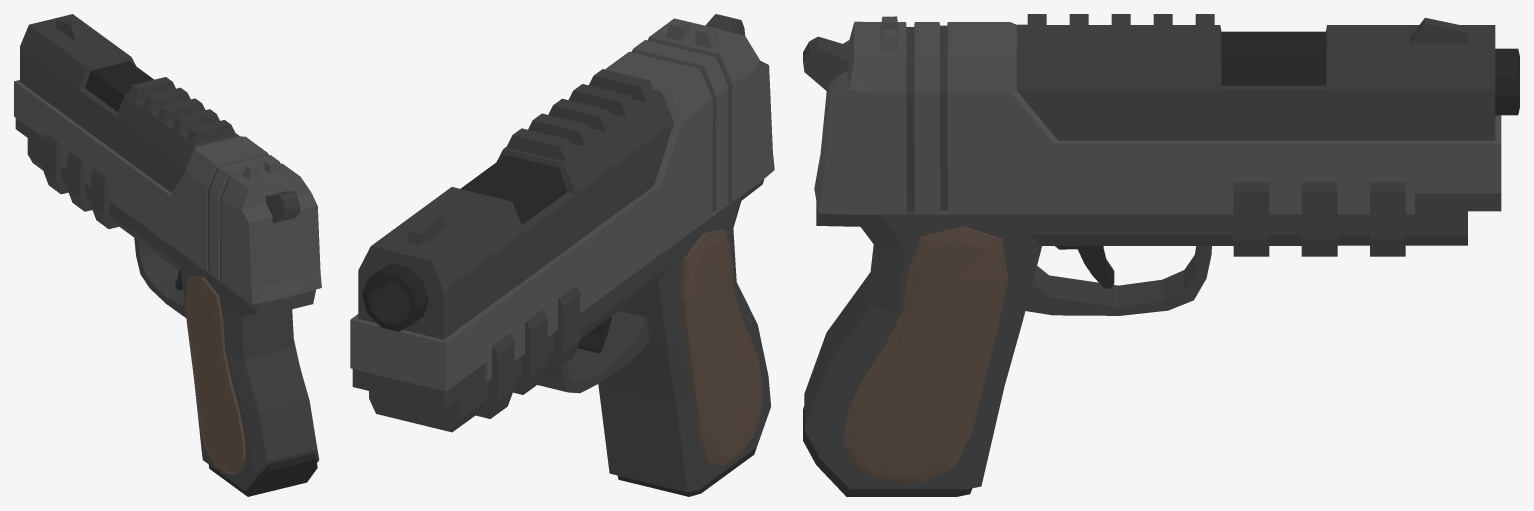
The model's file is pistol-3.glb.
3 renders of one model, left to right at view 1: azimuth 30°, elevation 25°; view 2: azimuth 150°, elevation 25°; view 3: azimuth 270°, elevation 25°, orthographic. The views are drawn at different scales.
Parts seen in each view (by area): view 1: Pistol_3; view 2: Pistol_3; view 3: Pistol_3.
Boxes of the visible parts, x1,y1,x2,y2 form: Pistol_3: [14, 14, 321, 496]; Pistol_3: [350, 14, 774, 496]; Pistol_3: [803, 14, 1519, 496].
Size of the model in its own units: 0.0392 by 0.1542 by 0.22.
